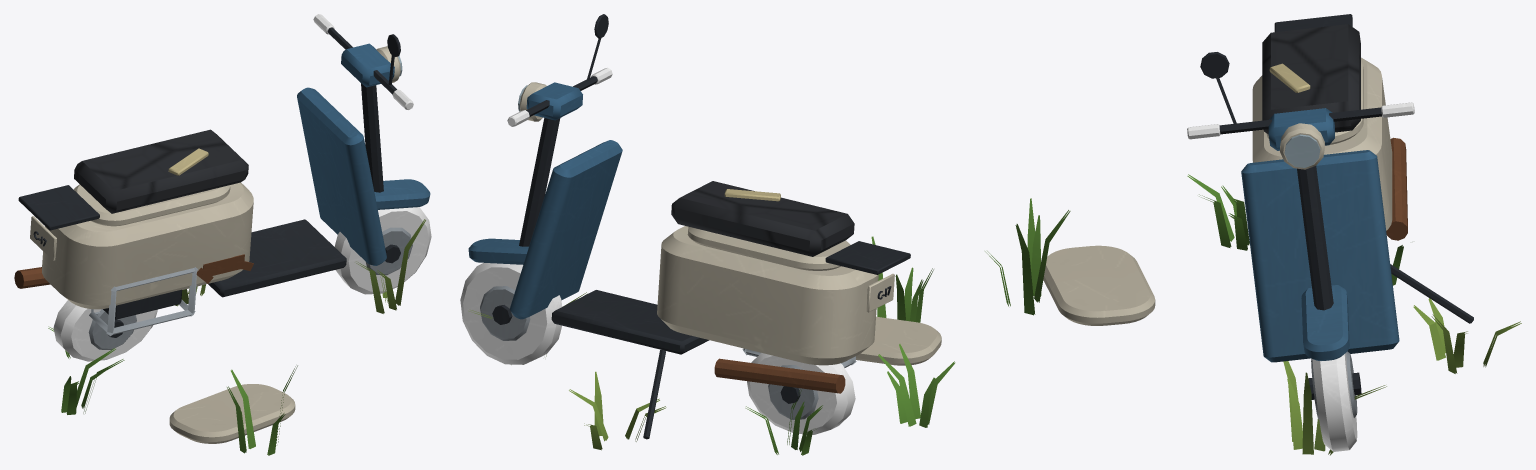
The model's file is broken_down_scooter.glb.
The picture shows the model from 3 angles, left to right: view 1: azimuth 30°, elevation 25°; view 2: azimuth 150°, elevation 25°; view 3: azimuth 270°, elevation 25°; orthographic projection. The views are drawn at different scales.
Visible parts, largest first — view 1: broken_down_scooter; view 2: broken_down_scooter; view 3: broken_down_scooter.
Boxes of the visible parts, left/top/right/bottom form: broken_down_scooter: left=14, top=14, right=431, bottom=455; broken_down_scooter: left=460, top=14, right=955, bottom=455; broken_down_scooter: left=985, top=14, right=1521, bottom=455.
Bounding box in the file's own units: 1.78 × 1.28 × 1.65.
17 materials, 17 textured.
